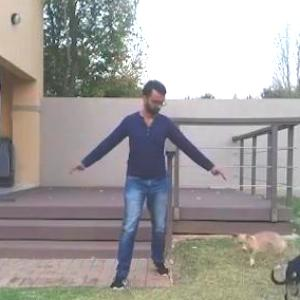land: (32, 76, 211, 294)
